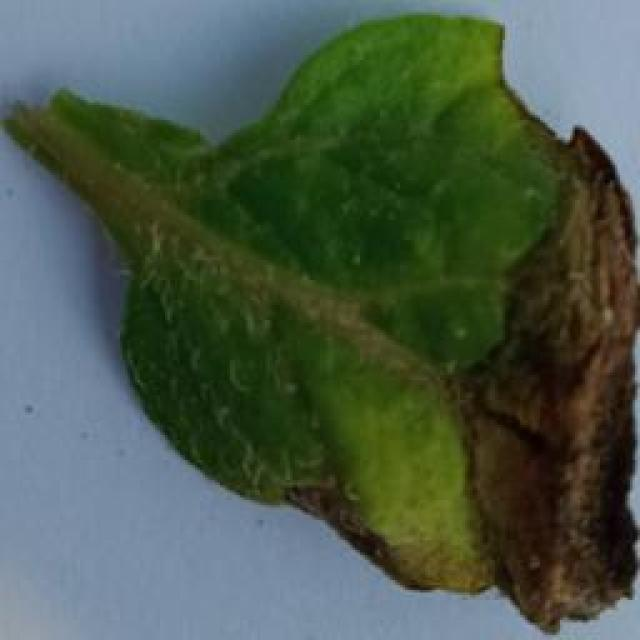Potato_Late_Blight: (109, 10, 640, 635)
